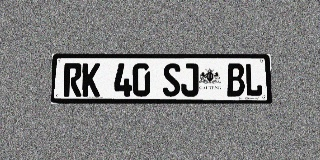0: (132, 63, 150, 97)
4: (114, 63, 132, 97)
B: (227, 63, 245, 96)
J: (181, 63, 199, 96)
K: (82, 63, 100, 97)
L: (245, 63, 263, 96)
R: (64, 63, 82, 97)
S: (163, 63, 180, 97)
